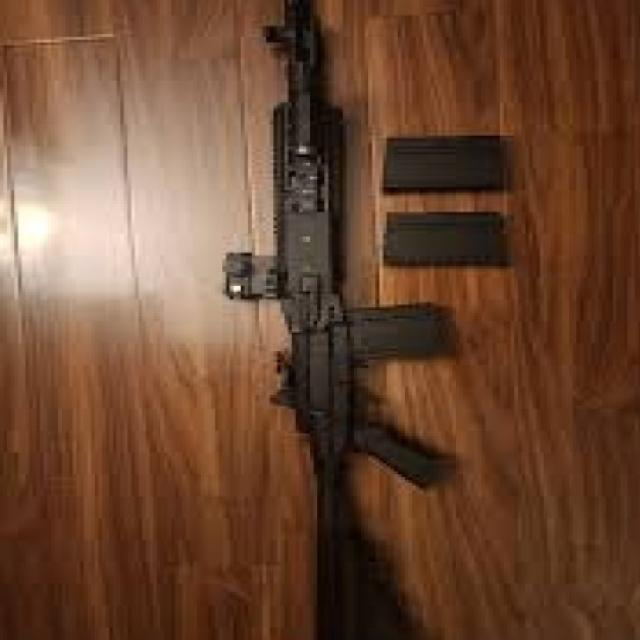Gun: (168, 0, 524, 640)
